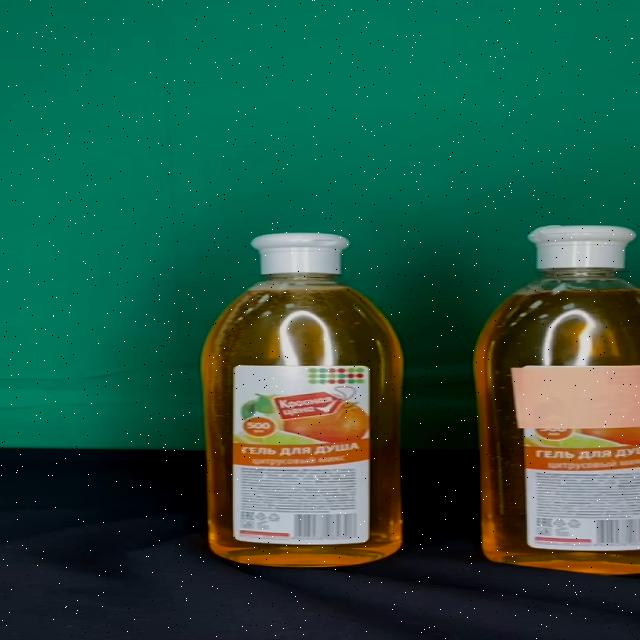Bottle: (200, 233, 403, 568), (472, 224, 640, 576)
Cap: (528, 225, 635, 269), (249, 234, 349, 275)
